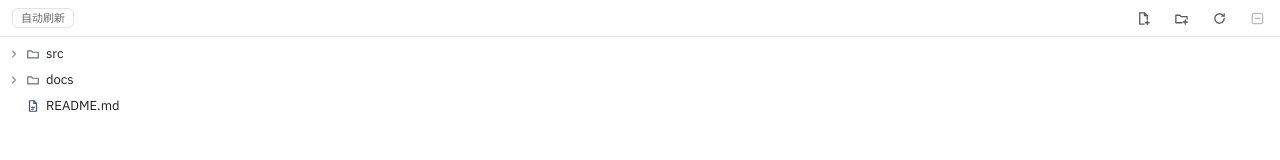
opening and the tree › explains an unreadable directory (unreadable)
Click the list item "docs".
click(41, 80)  # box [8,71,74,88]
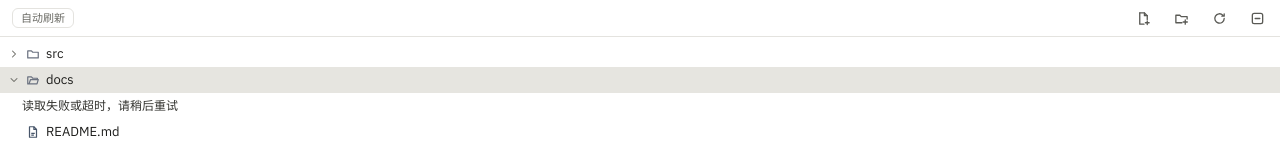
Check: the text "读取失败或超时，请稍后重试" is shown, box [22,97,178,115]
